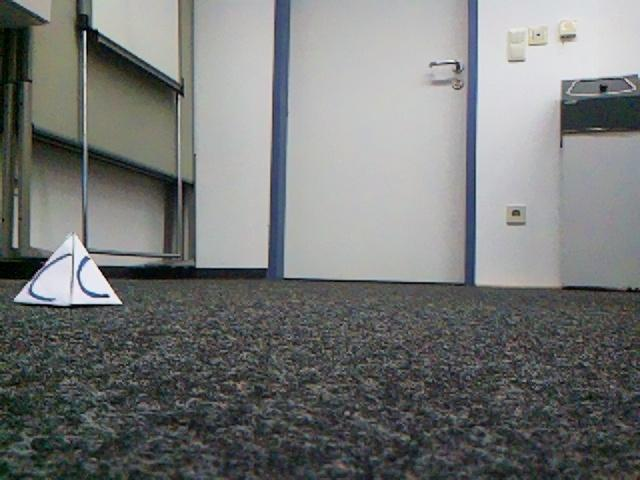C: (20, 235, 125, 308)
